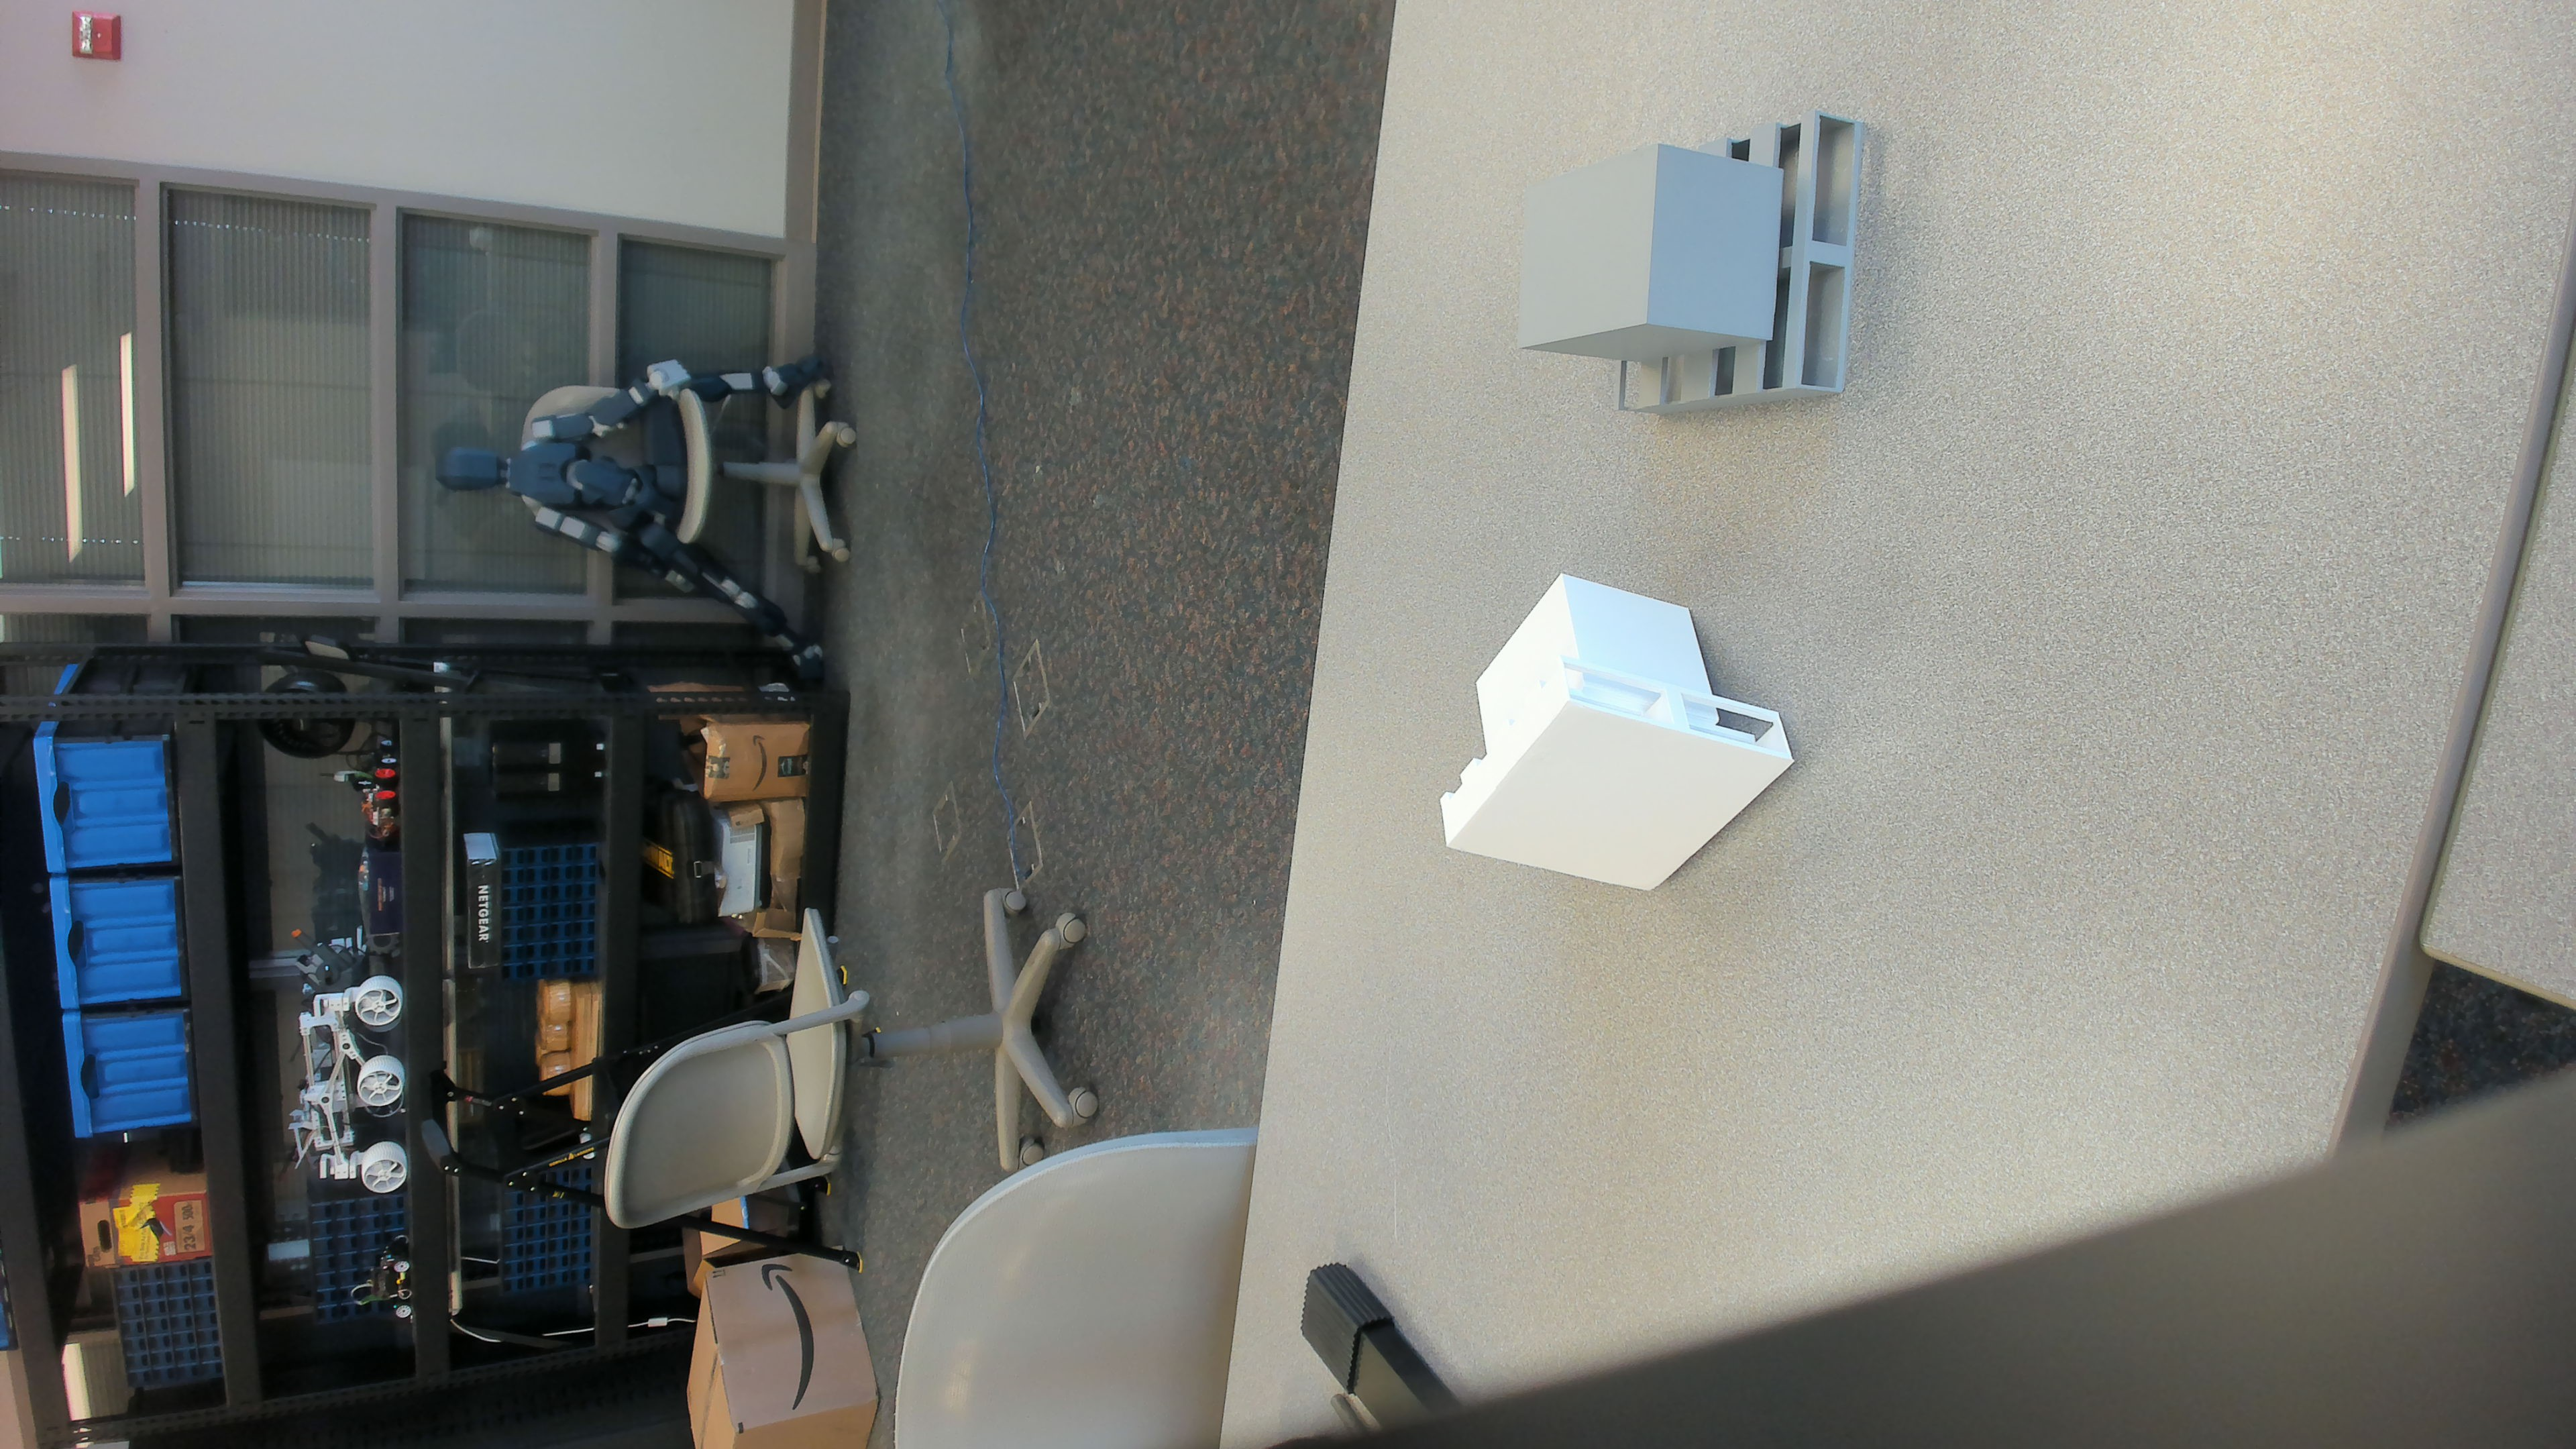grey pallet: (1504, 103, 1877, 435)
white pallet: (1419, 561, 1808, 908)
